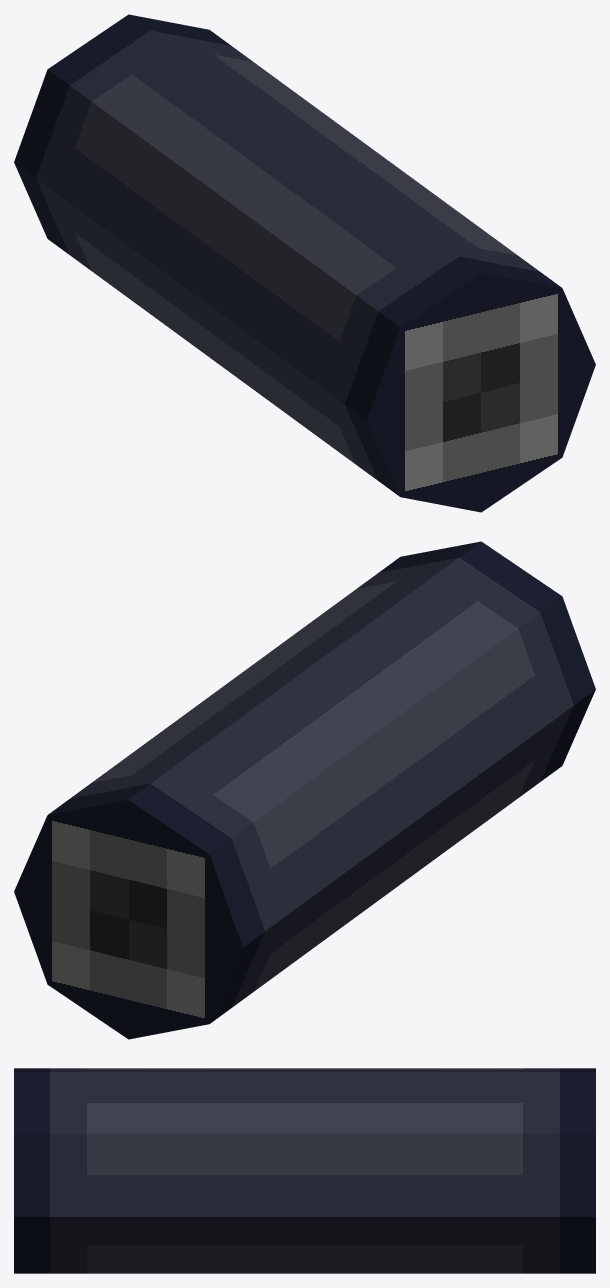
The model's file is neo_03.obj.
3 views of the same model, one above another, from view 1: azimuth 30°, elevation 25°; view 2: azimuth 150°, elevation 25°; view 3: azimuth 270°, elevation 25° (orthographic). The views are drawn at different scales.
Parts seen in each view (by area): view 1: pipe; view 2: pipe; view 3: pipe.
Part boxes in pixels (left/top/right/bottom): pipe: left=14, top=14, right=595, bottom=512; pipe: left=14, top=541, right=595, bottom=1039; pipe: left=14, top=1068, right=595, bottom=1273.
Size of the model in its own units: 0.375 by 0.375 by 1.
